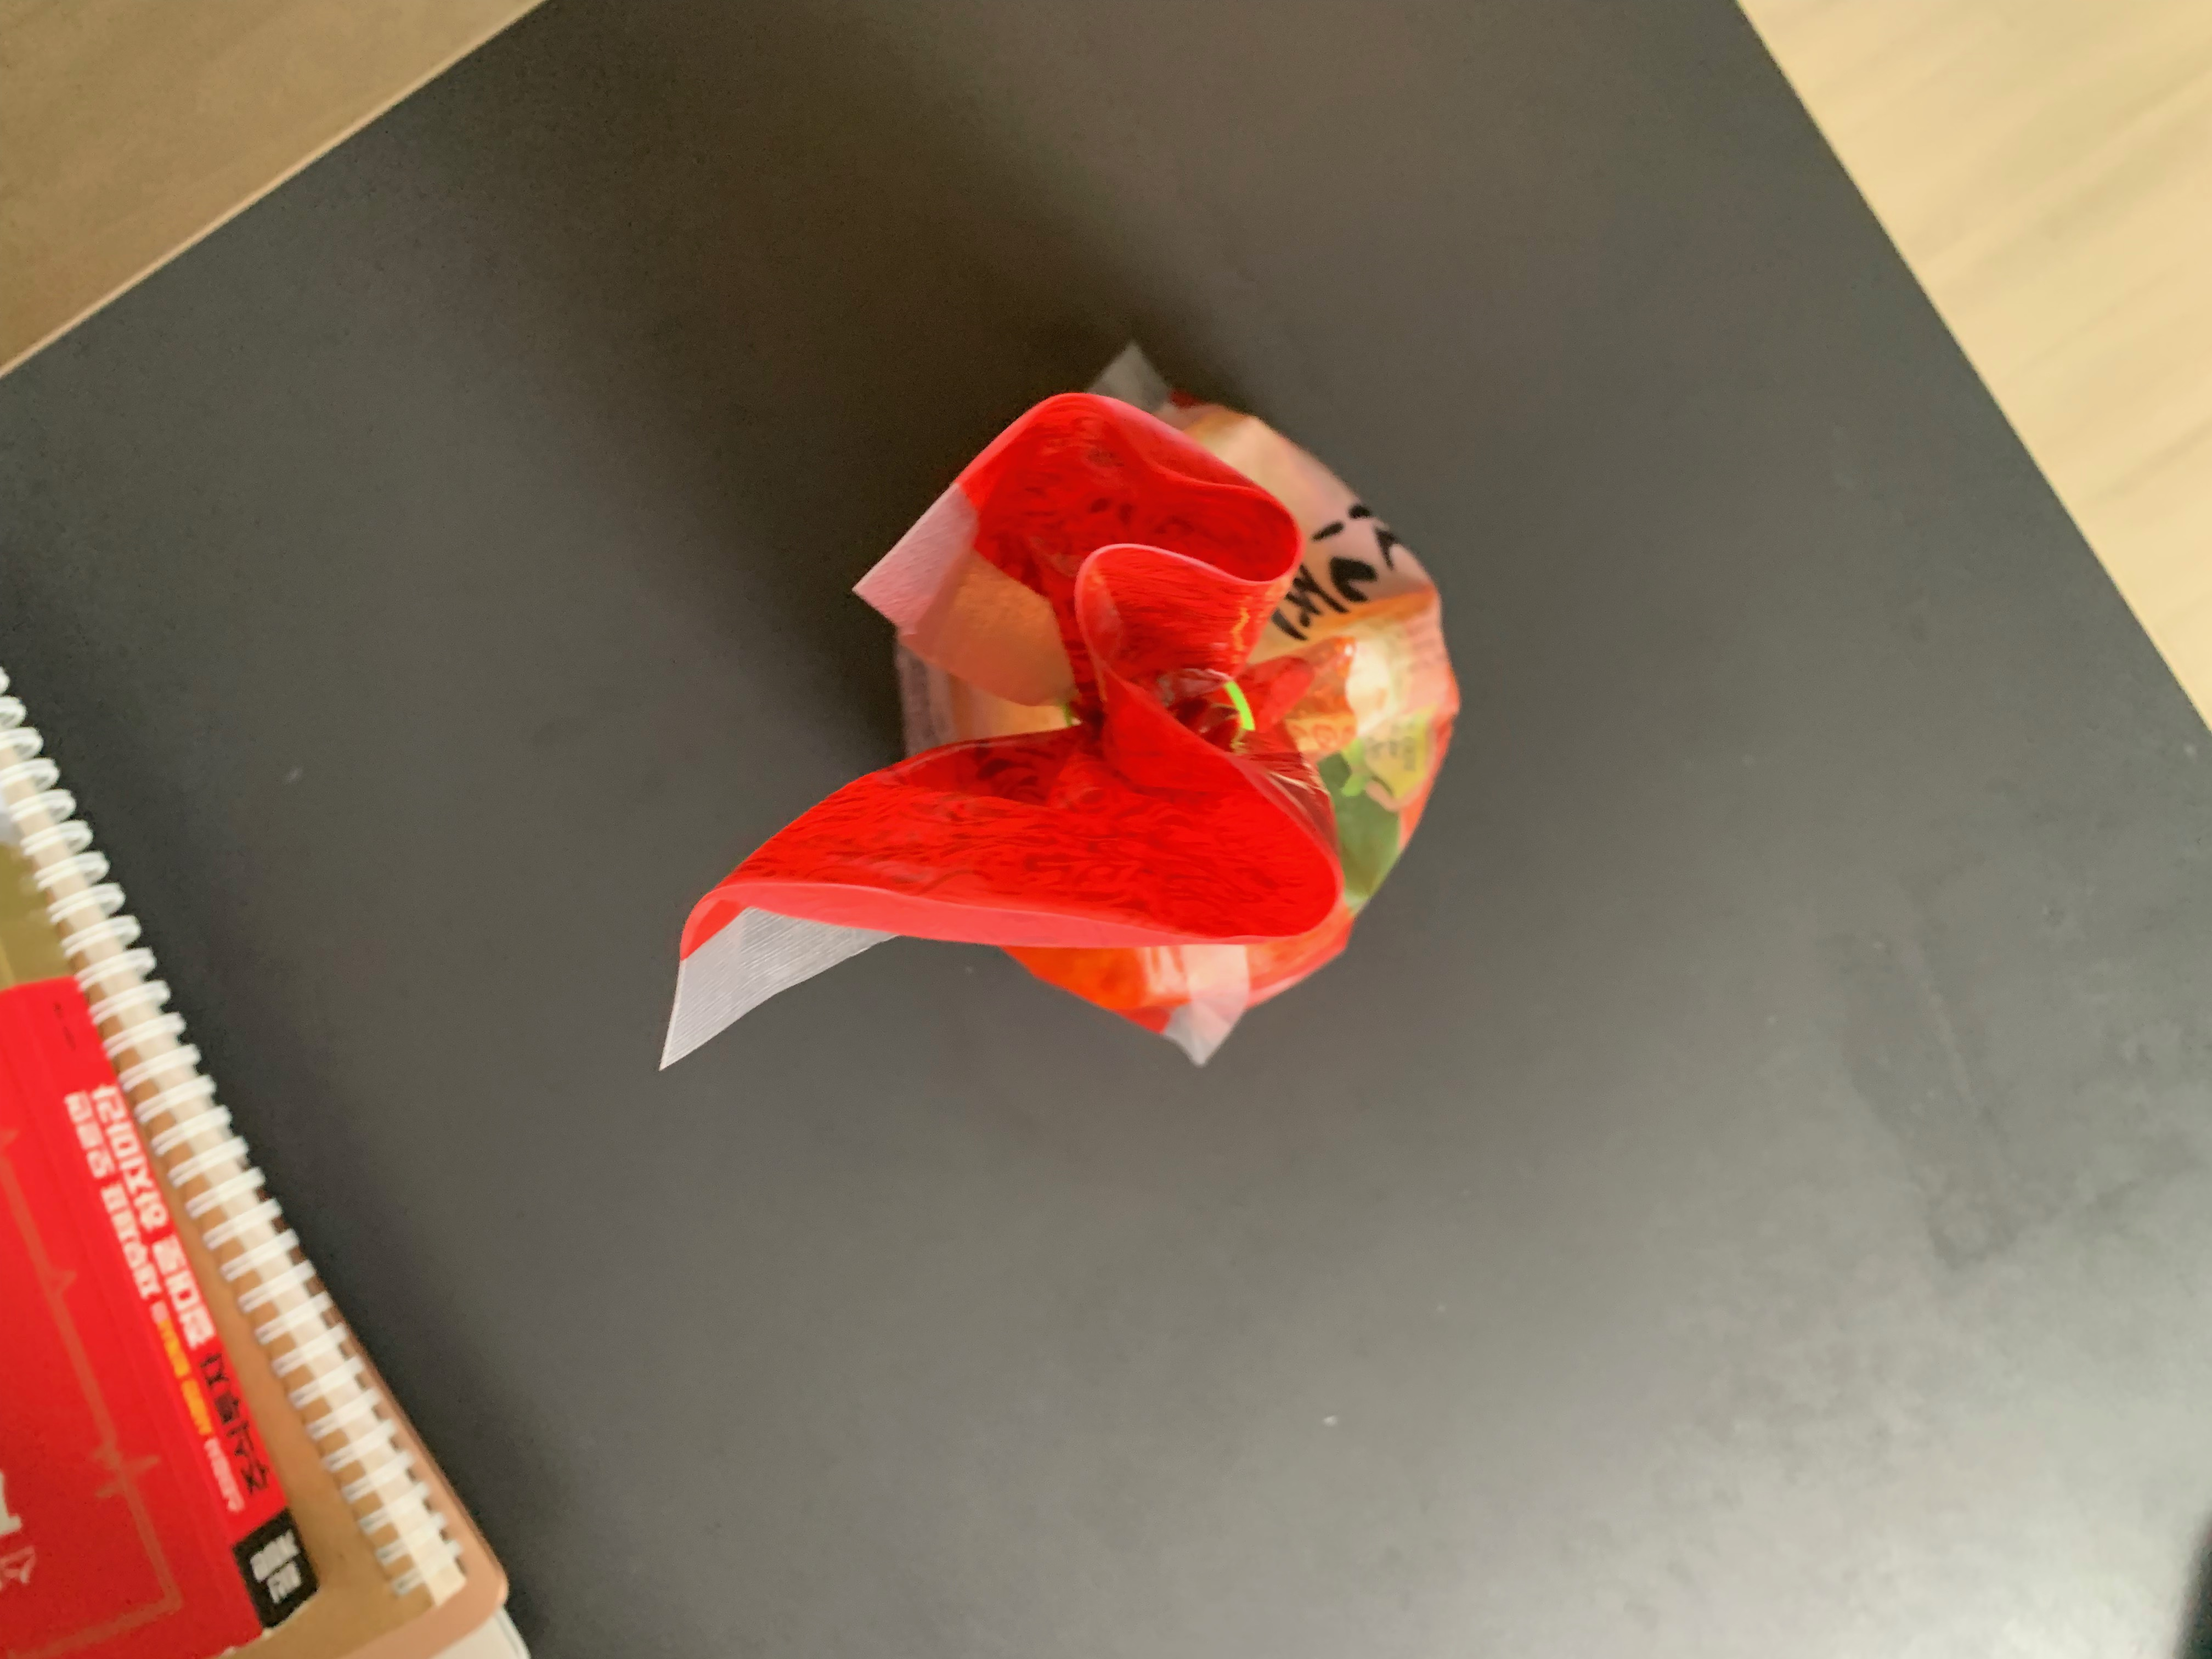kimchi: (749, 387, 1458, 1040)
